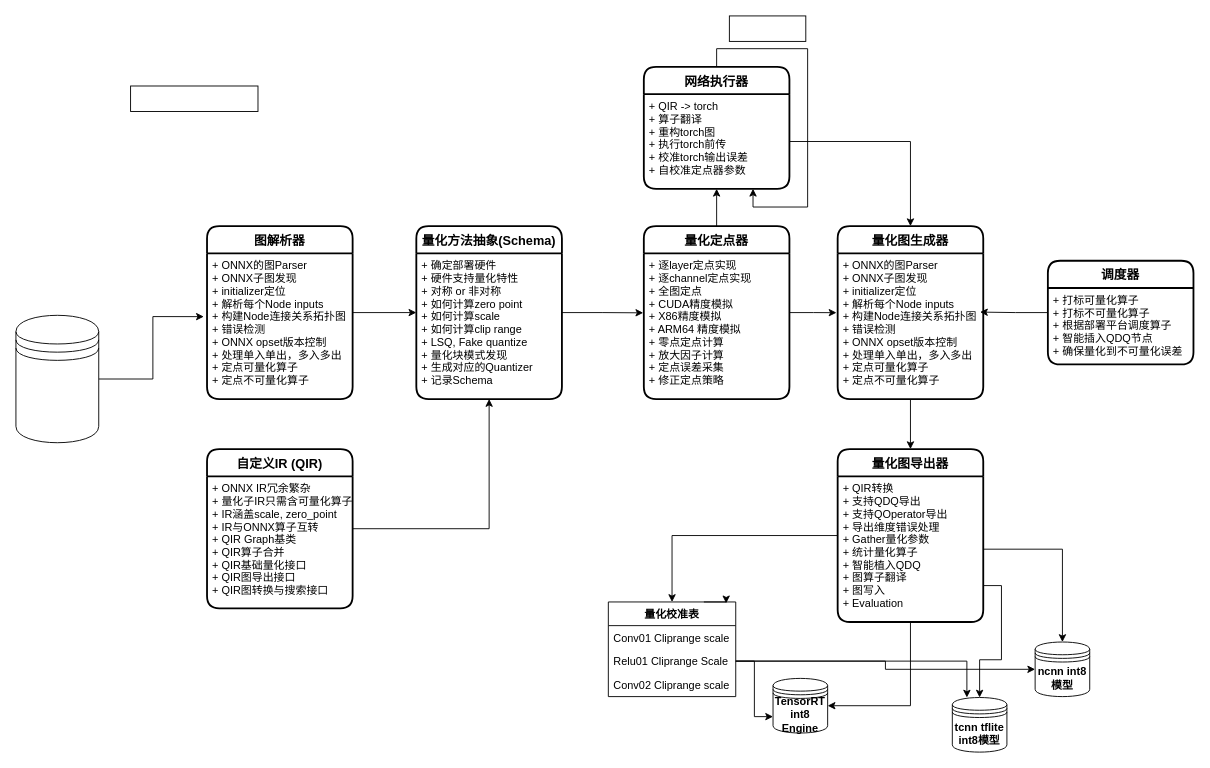
This 1210x768 diagram has some shape labels left out. The centre of each missing label's shape, as x and y in pixels:
"原始float32图 GPT-3, HRNet etc." goes at pixel 57 378.
"自校准" goes at pixel 767 28.
"量化框架架构图" goes at pixel 194 98.
